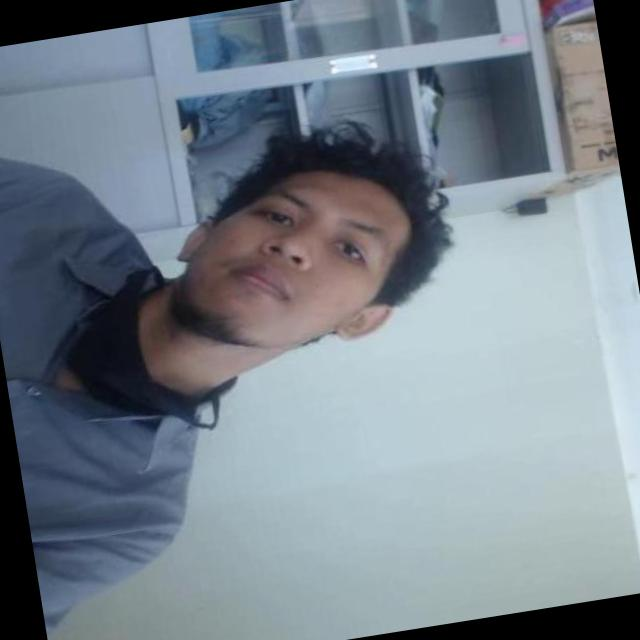bareface: (172, 161, 444, 357)
